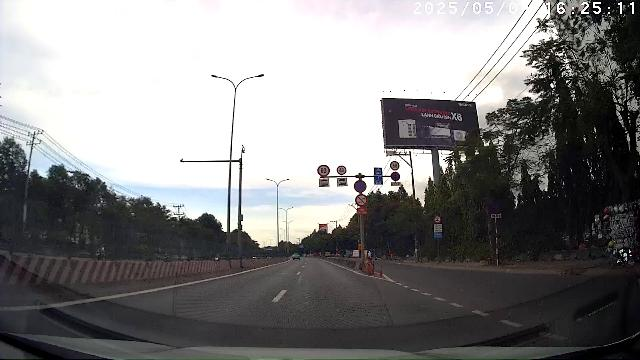127-toc-do-toi-da-50: (390, 161, 400, 171)
127-toc-do-toi-da-60: (337, 165, 348, 175)
127-toc-do-toi-da-80: (317, 164, 331, 176)
130-cam-dung-va-do-xe: (354, 180, 366, 192)
